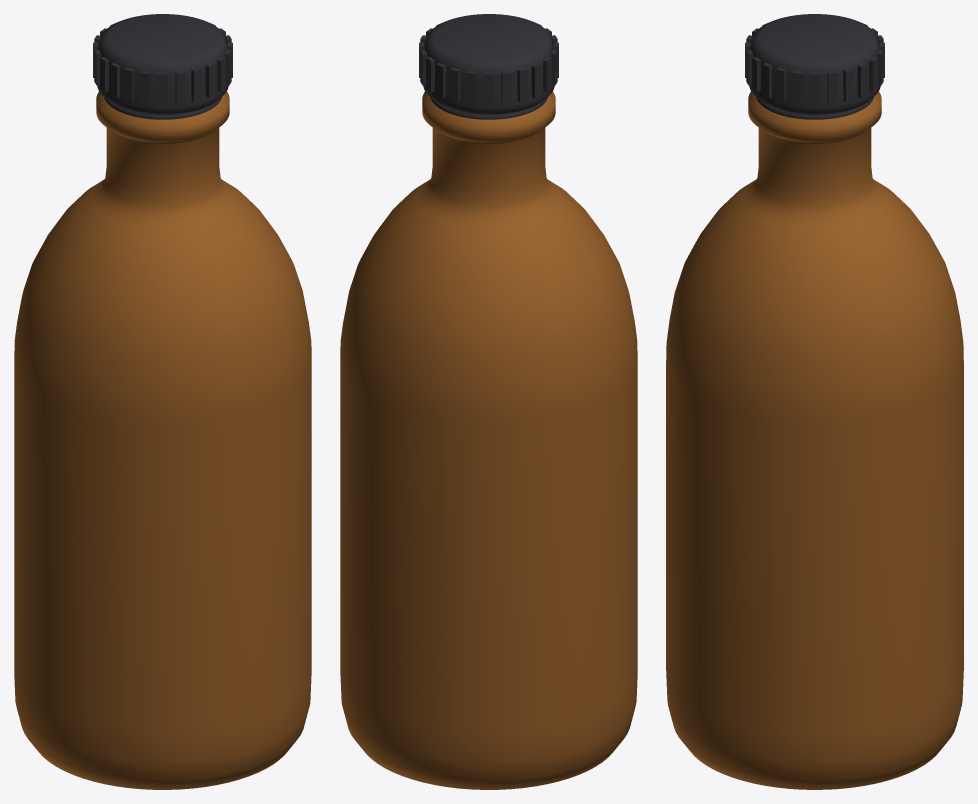
File: reagent_bottle.glb
3 renders of one model, left to right at view 1: azimuth 30°, elevation 25°; view 2: azimuth 150°, elevation 25°; view 3: azimuth 270°, elevation 25°, orthographic.
Parts seen in each view (by area): view 1: reagent_bottle_body, reagent_bottle_cap_body, reagent_bottle, reagent_bottle_cap_thread; view 2: reagent_bottle_body, reagent_bottle_cap_body, reagent_bottle, reagent_bottle_cap_thread; view 3: reagent_bottle_body, reagent_bottle_cap_body, reagent_bottle, reagent_bottle_cap_thread.
Part boxes in pixels (box(x1,y1,x2,y2)): reagent_bottle_body: box(14, 91, 311, 789); reagent_bottle_cap_body: box(97, 14, 228, 115); reagent_bottle: box(93, 23, 232, 105); reagent_bottle_cap_thread: box(104, 97, 221, 119); reagent_bottle_body: box(340, 91, 637, 789); reagent_bottle_cap_body: box(423, 14, 554, 115); reagent_bottle: box(419, 23, 558, 105); reagent_bottle_cap_thread: box(430, 97, 547, 119); reagent_bottle_body: box(666, 91, 963, 789); reagent_bottle_cap_body: box(749, 14, 880, 115); reagent_bottle: box(745, 22, 884, 105); reagent_bottle_cap_thread: box(756, 97, 873, 119).
Size of the model in its own units: 0.075 by 0.196 by 0.075.
